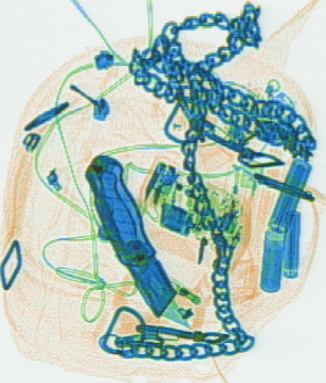knife: (84, 155, 191, 330)
lighter: (220, 159, 260, 261)
